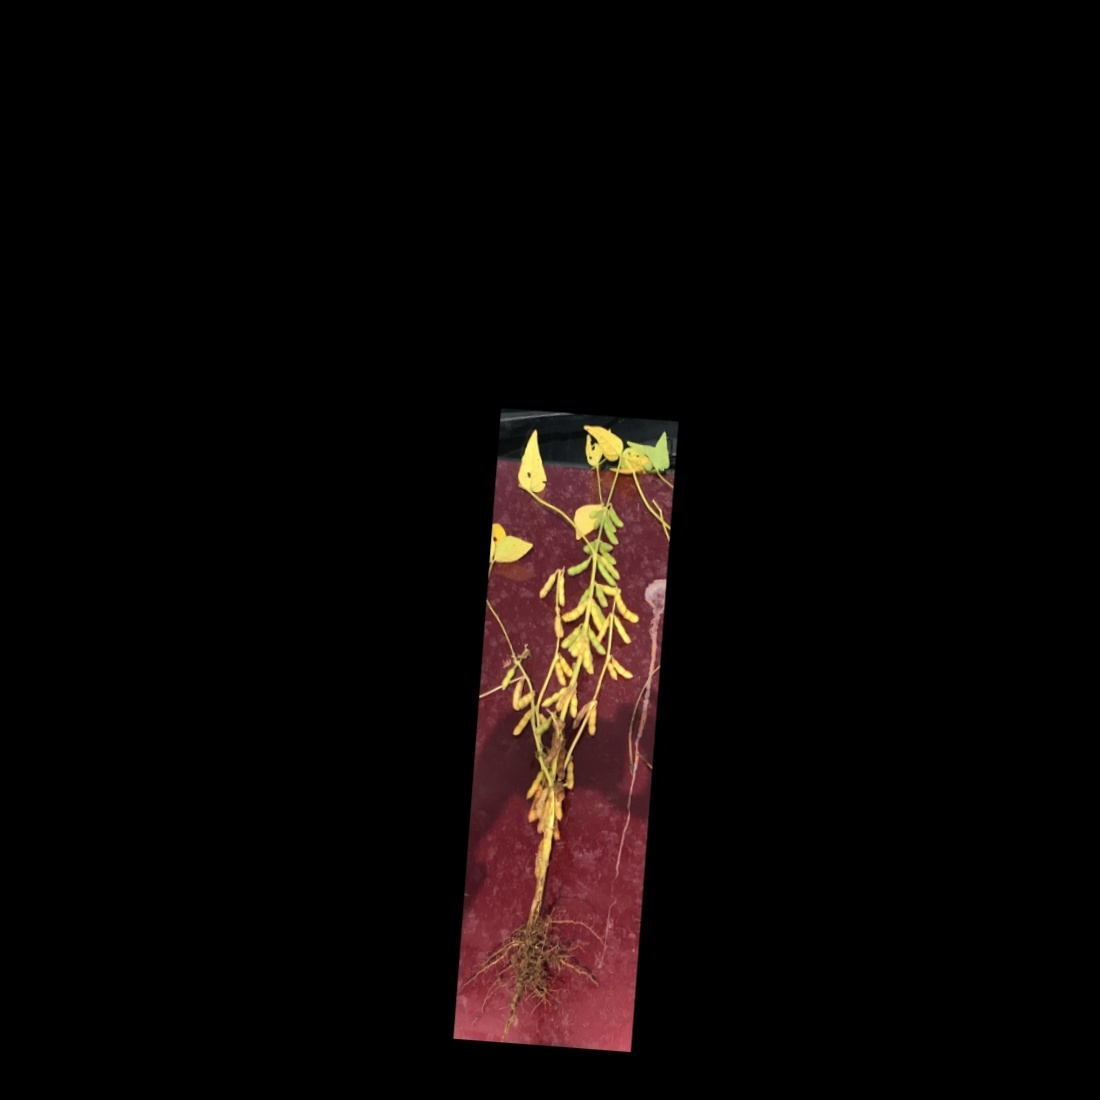pod: (609, 588, 643, 626), (507, 705, 536, 743), (539, 680, 571, 710), (535, 568, 559, 605), (565, 552, 595, 580), (593, 554, 622, 584), (585, 623, 609, 657), (593, 560, 621, 590), (609, 653, 638, 681), (559, 595, 587, 623), (546, 657, 570, 687), (523, 770, 545, 802), (584, 702, 602, 741), (609, 616, 634, 646), (599, 517, 623, 547), (564, 555, 592, 578), (591, 582, 611, 613), (555, 566, 570, 607), (565, 686, 580, 723), (512, 687, 538, 707), (605, 507, 628, 529), (564, 757, 578, 791)
soy: (466, 429, 672, 1025)
